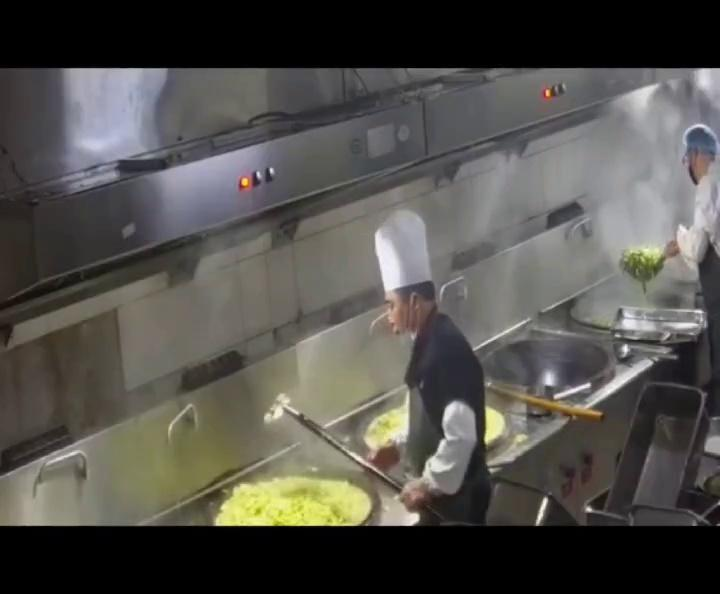mask: (384, 292, 419, 340)
